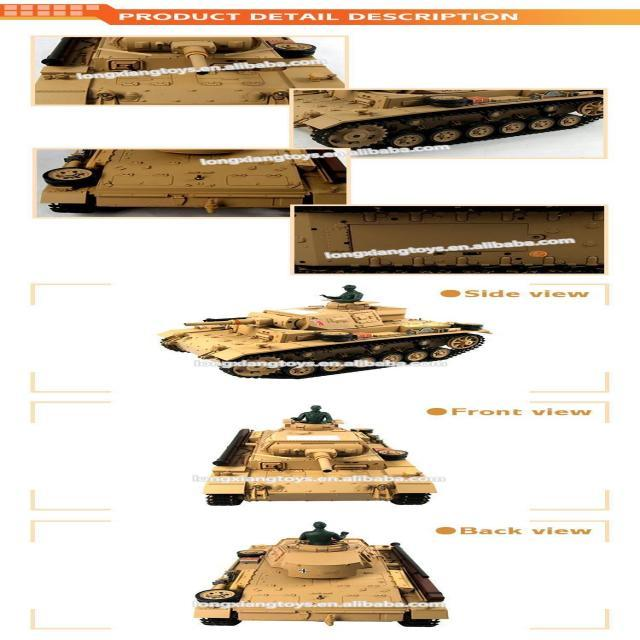MIL_MBT: (165, 281, 495, 383), (198, 401, 435, 513), (192, 531, 453, 628), (286, 94, 603, 142)
